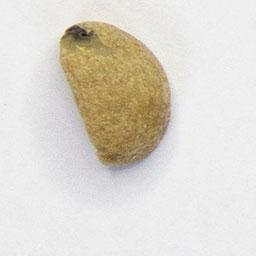defect: (56, 17, 175, 174)
